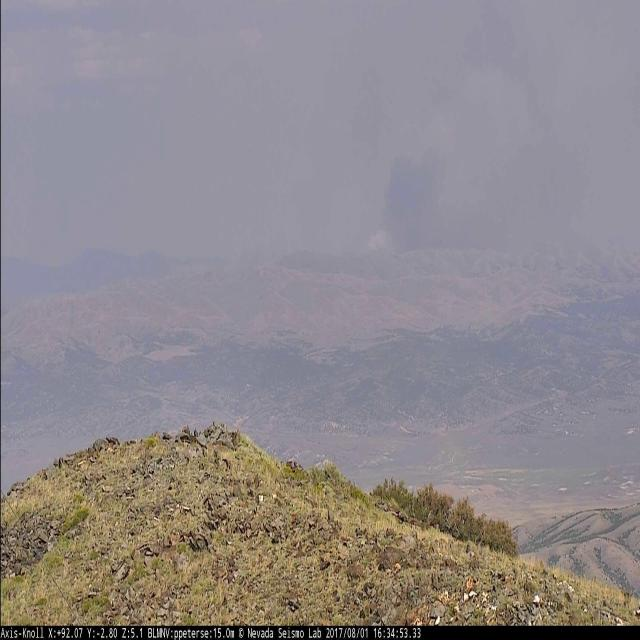smoke: (360, 2, 578, 248)
